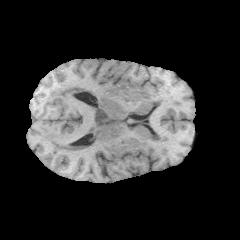glioma: (42, 82, 167, 170)
